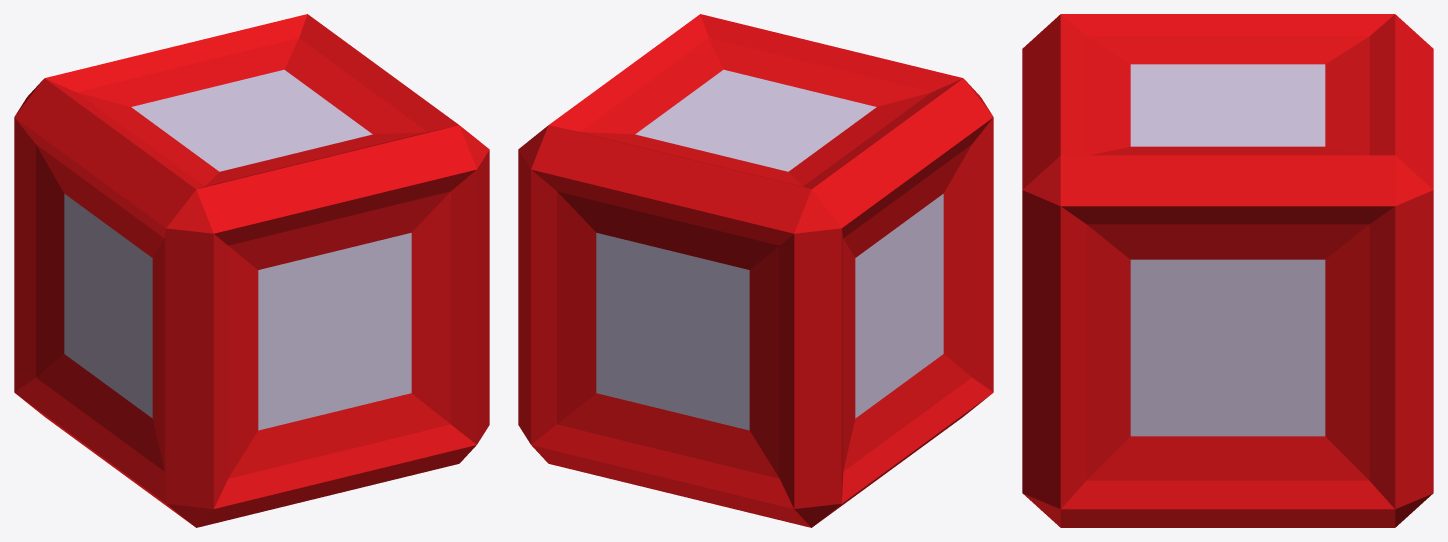
File: Powerup.fbx
3 renders of one model, left to right at view 1: azimuth 30°, elevation 25°; view 2: azimuth 150°, elevation 25°; view 3: azimuth 270°, elevation 25°, orthographic. The views are drawn at different scales.
Parts seen in each view (by area): view 1: Cube; view 2: Cube; view 3: Cube.
Part boxes in pixels (x1,y1,x2,y2): Cube: [14, 14, 489, 527]; Cube: [518, 14, 993, 527]; Cube: [1022, 14, 1433, 527].
Size of the model in its own units: 200 by 200 by 200.
